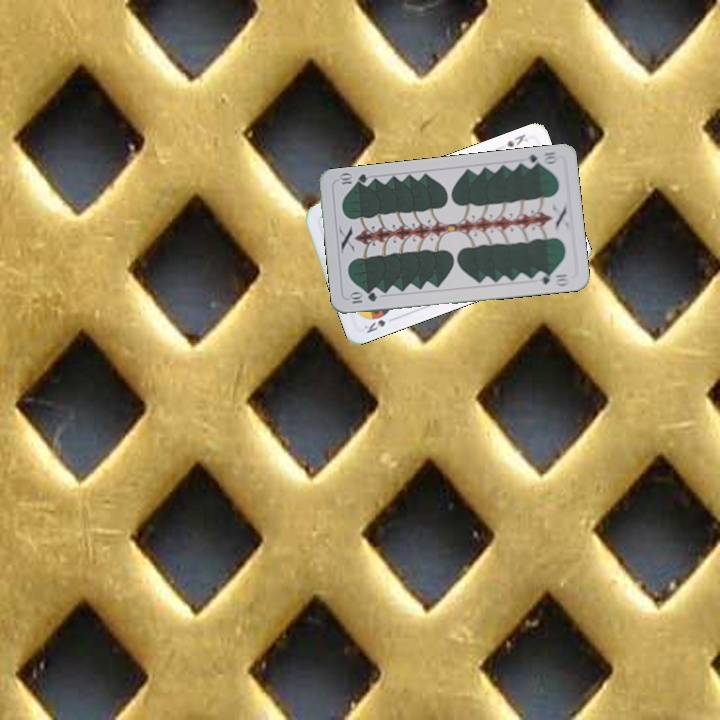G10: (520, 148, 561, 170), (345, 289, 379, 306)
SK: (360, 308, 393, 336), (502, 130, 533, 150)
